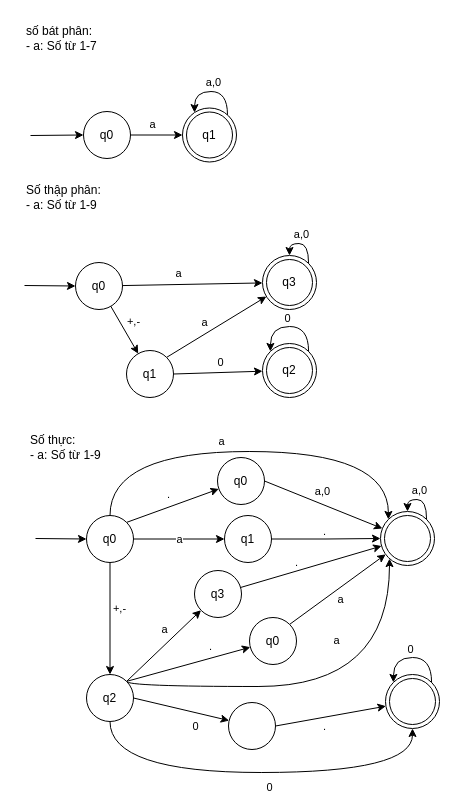
Some shapes in this 457 by 810 pixel diagram are drawn without their labels. The shapes that lost their labels are listed below. From the top down, each one's centre as x and y in pixels, then its label:
(407,538): q6
(412,701): q5
(252,726): q4
